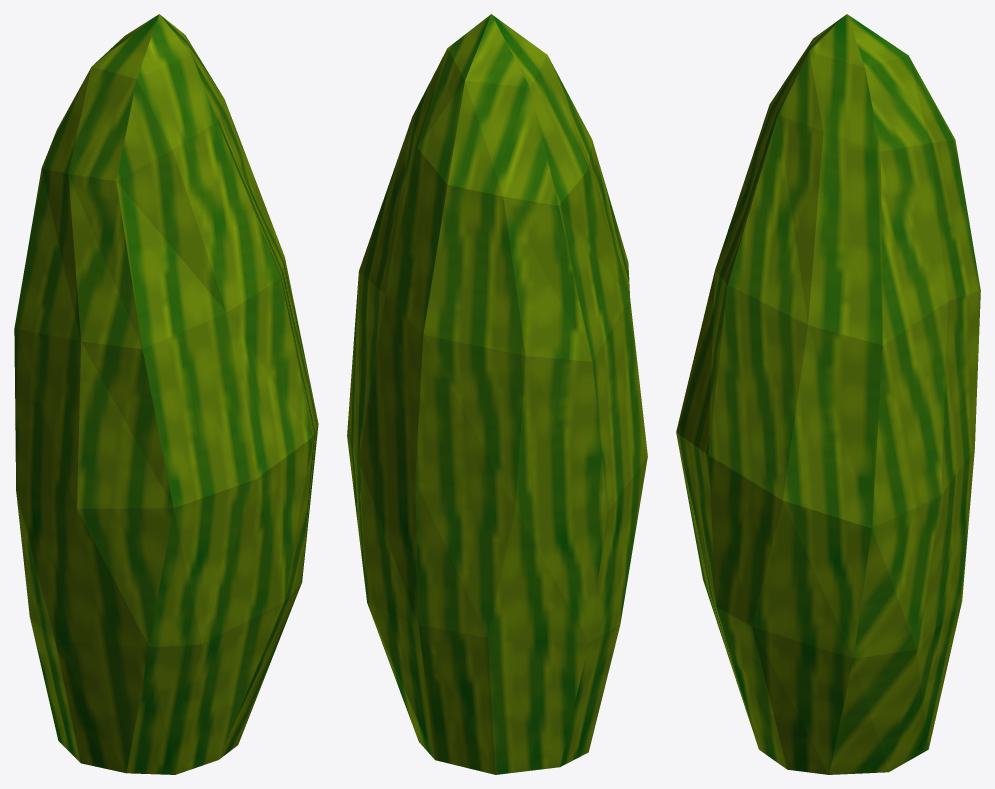
Rendered from courge1.obj.
The picture shows the model from 3 angles, left to right: view 1: azimuth 30°, elevation 25°; view 2: azimuth 150°, elevation 25°; view 3: azimuth 270°, elevation 25°; orthographic projection.
Visible parts, largest first — view 1: ColobotMesh_1_ColobotMesh_; view 2: ColobotMesh_1_ColobotMesh_; view 3: ColobotMesh_1_ColobotMesh_.
Part boxes in pixels (x1,y1,x2,y2): ColobotMesh_1_ColobotMesh_: [14, 14, 318, 774]; ColobotMesh_1_ColobotMesh_: [347, 14, 647, 774]; ColobotMesh_1_ColobotMesh_: [676, 14, 980, 774].
Size of the model in its own units: 6.47 by 17.11 by 6.45.
